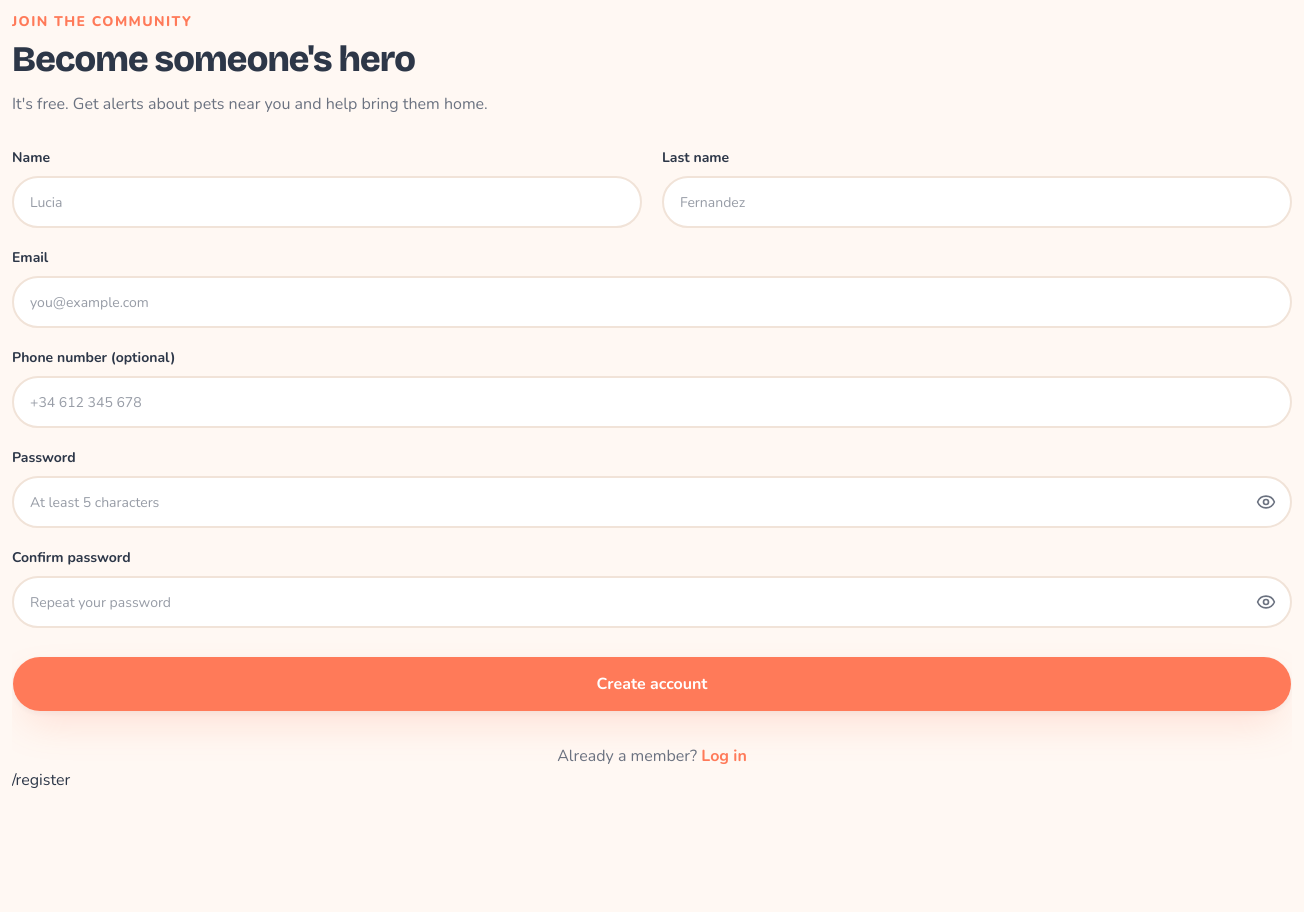
RegisterForm › associates a duplicate email error with the field and focuses it
Type "Adriana" into the field labelled "Name" at (327, 202), box [12, 176, 642, 228]
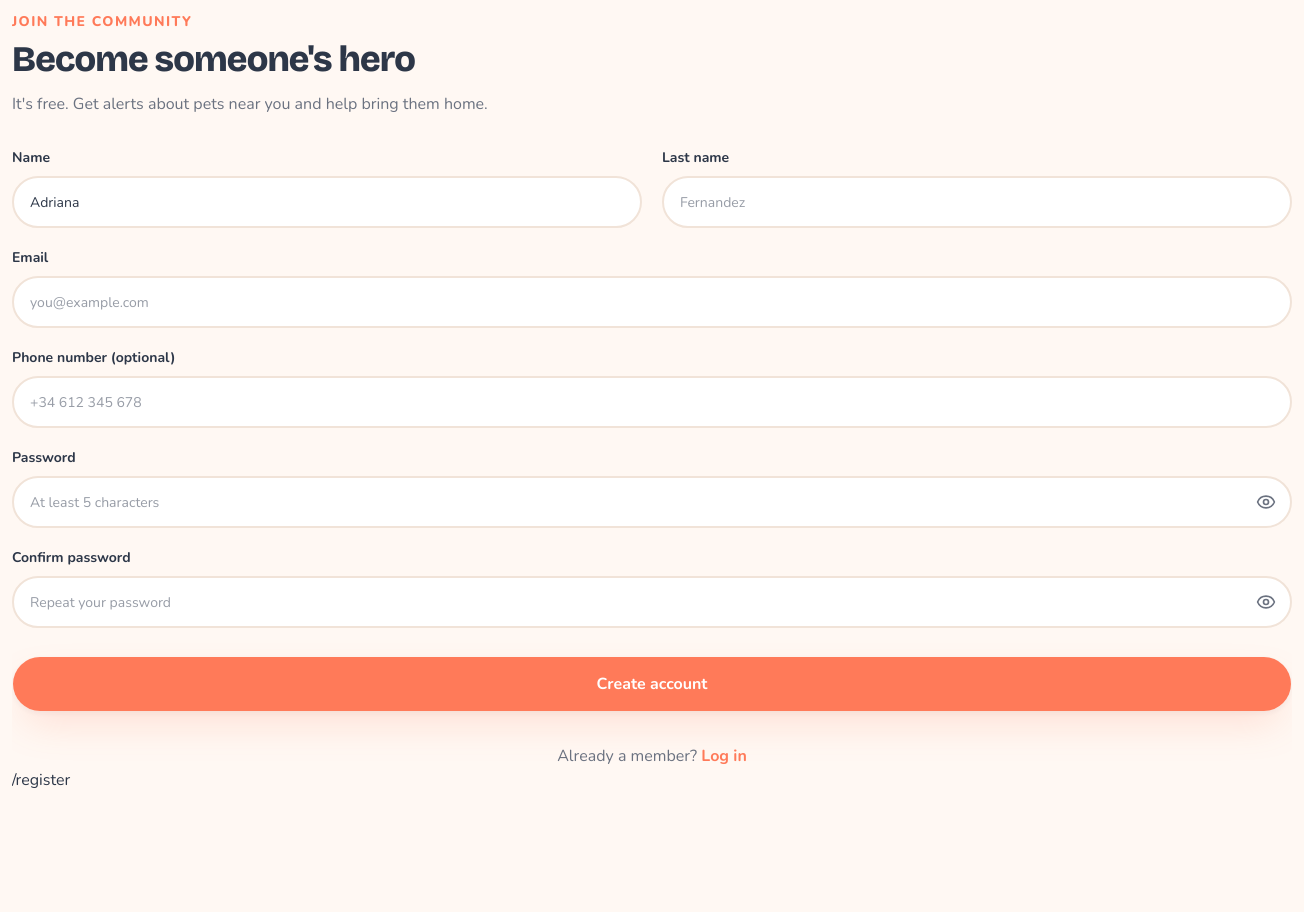
Type "Elias" into the field labelled "Last name" at (977, 202), box [662, 176, 1292, 228]
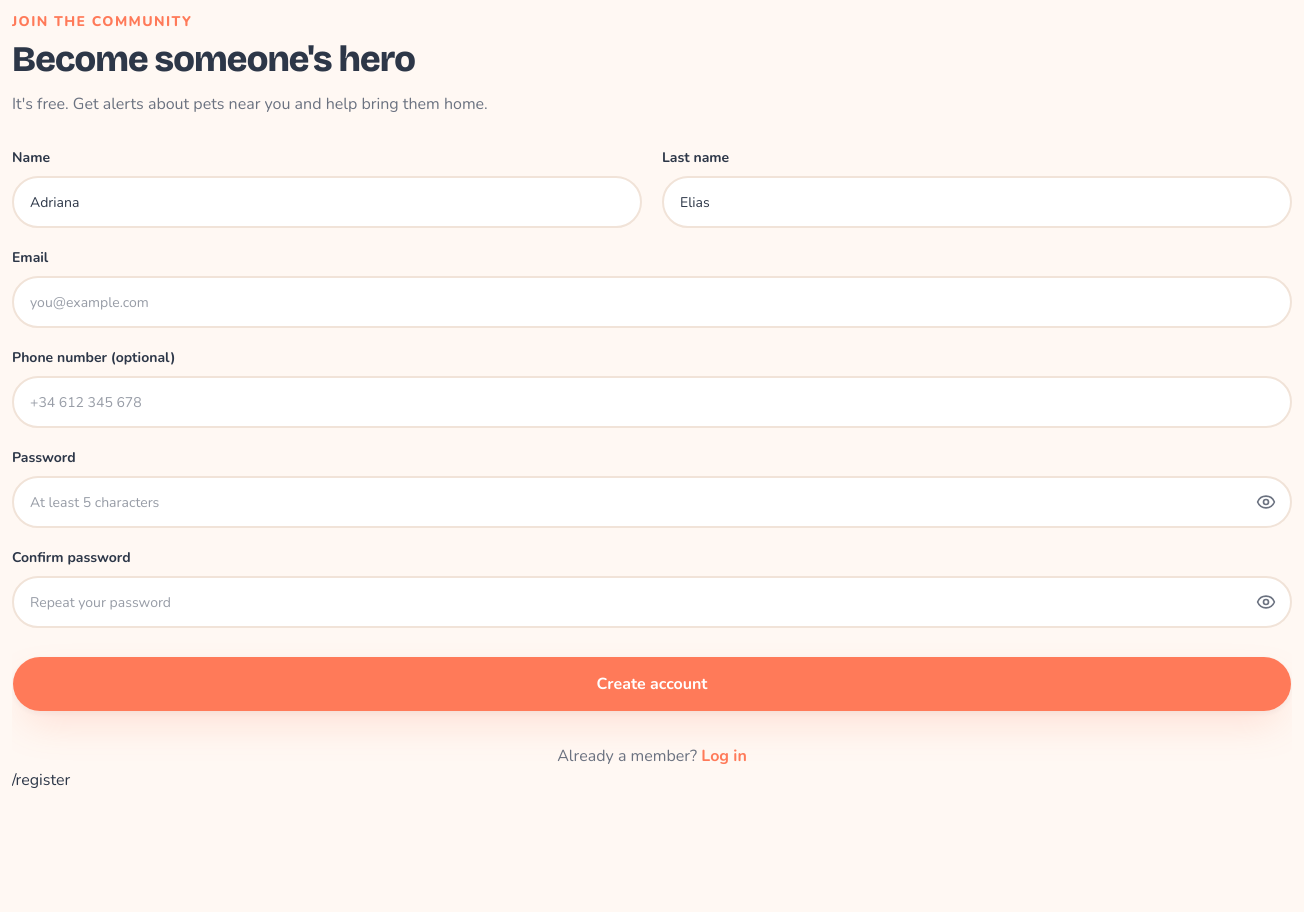
Type "adriana@example.com" into the field labelled "Email" at (652, 302), box [12, 276, 1292, 328]
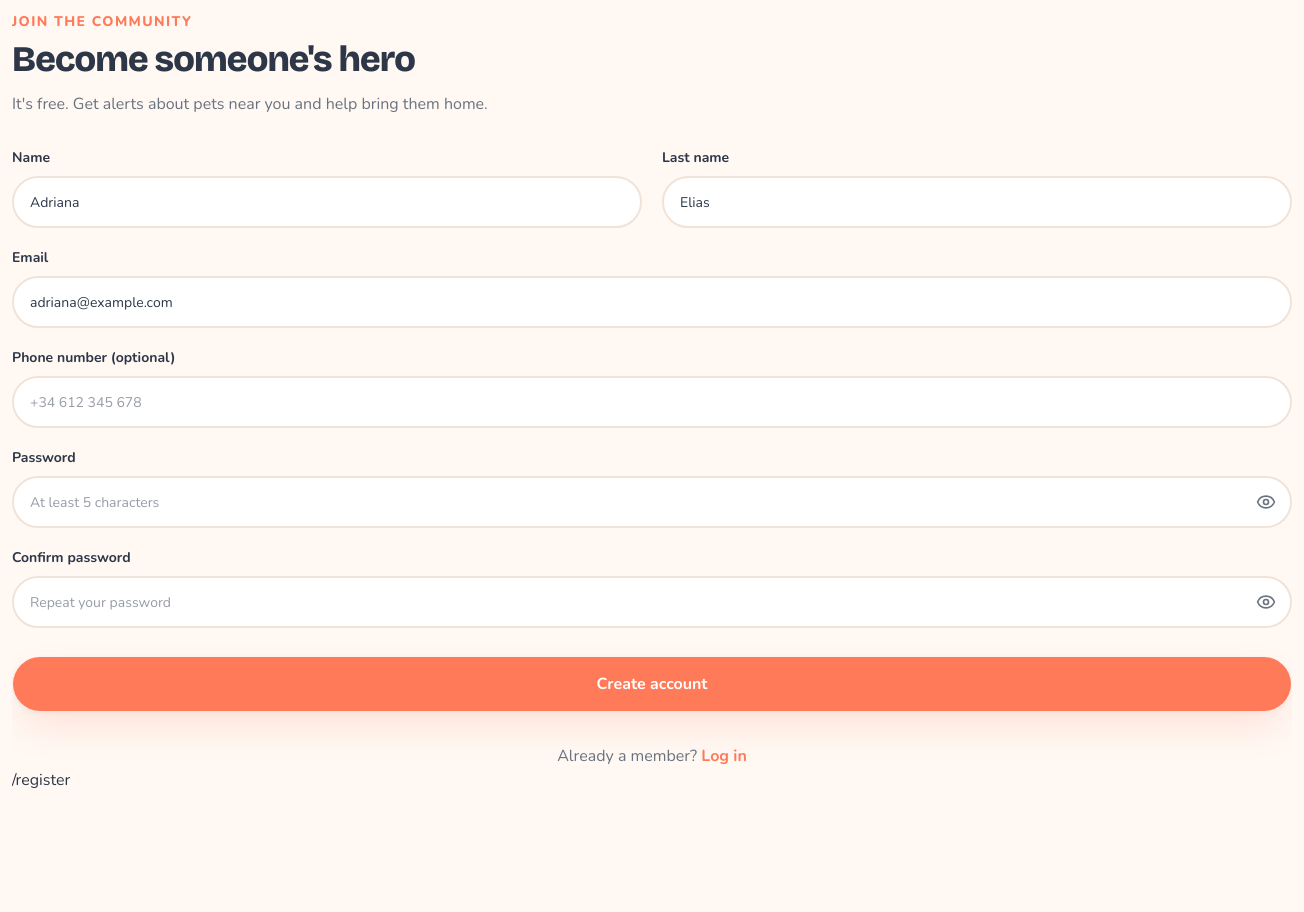
Type "Valid1" into the password field named "password" at (652, 502), box [12, 476, 1292, 528]
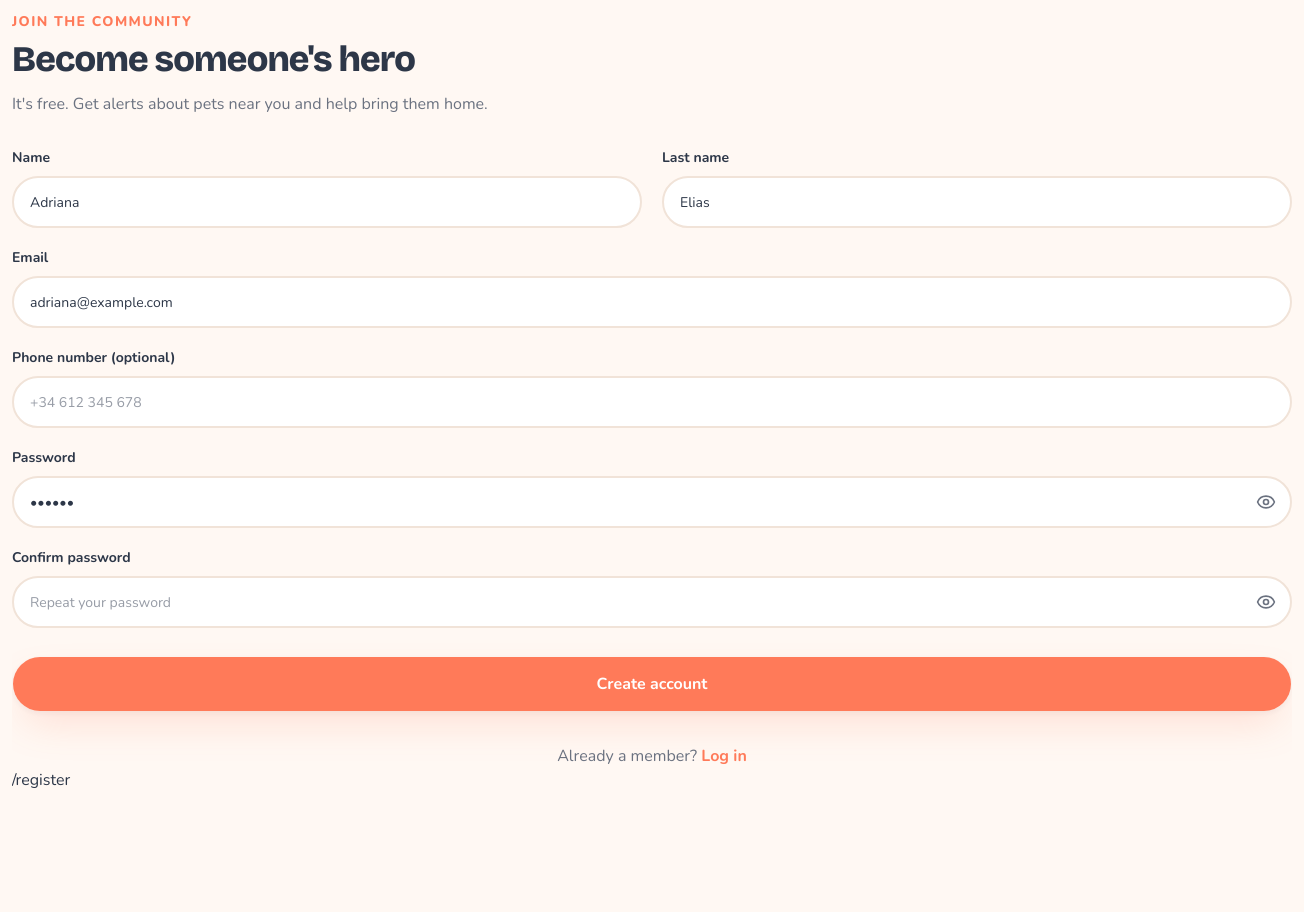
Type "Valid1" into the password field named "confirmPassword" at (652, 602), box [12, 576, 1292, 628]
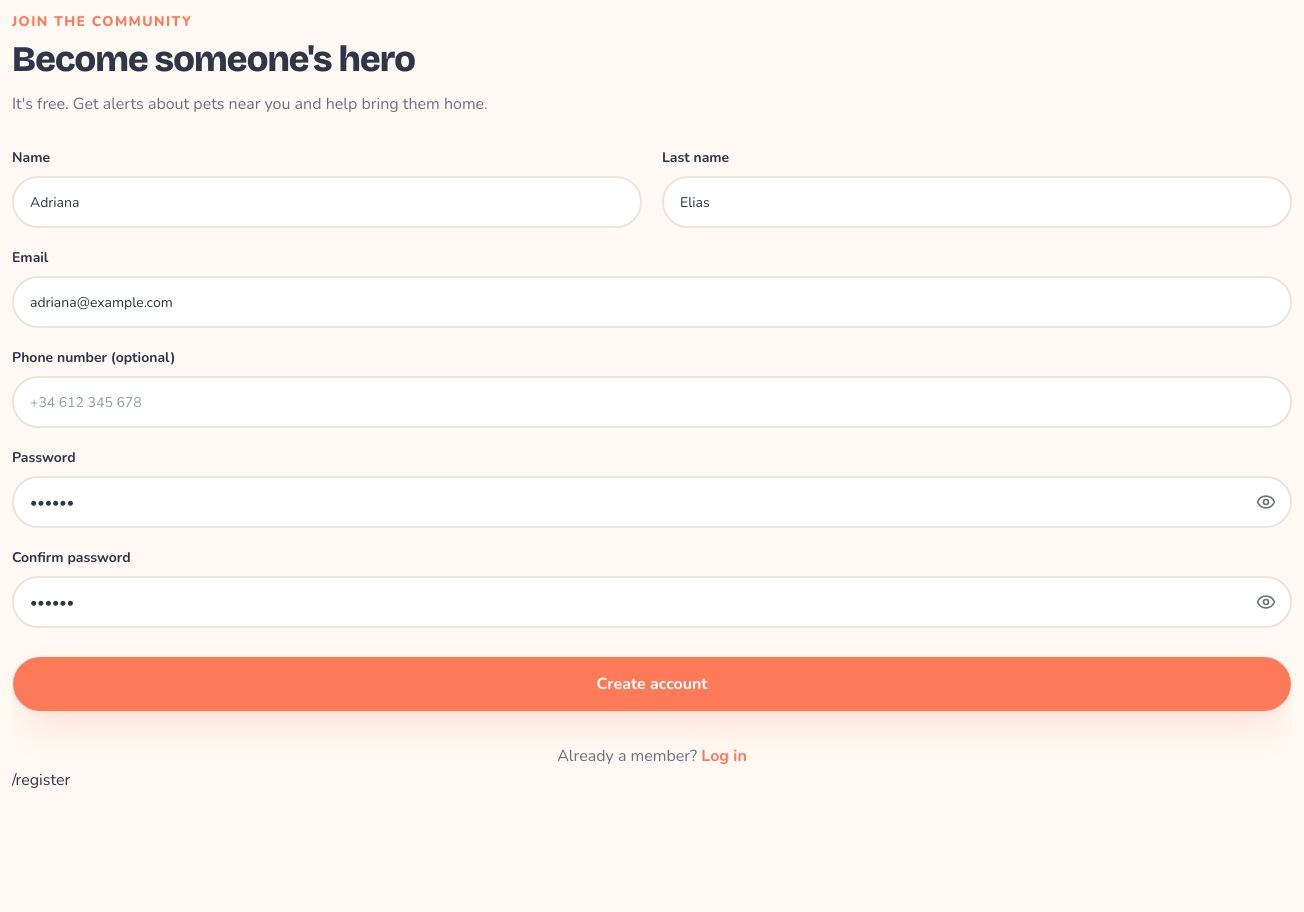
Submit the form
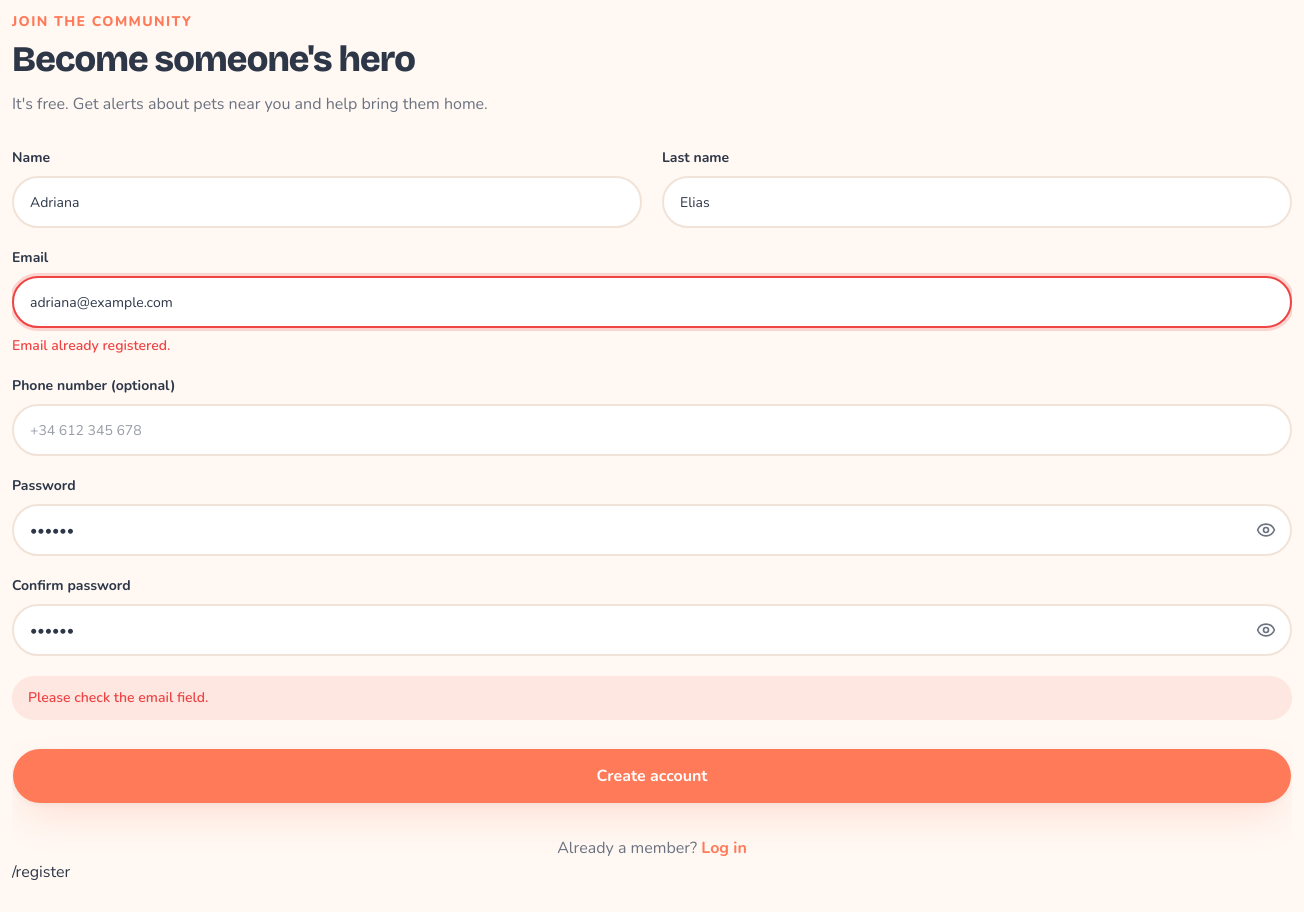
Expected: the message reads "Please check the email field.", [28, 688, 208, 707]
